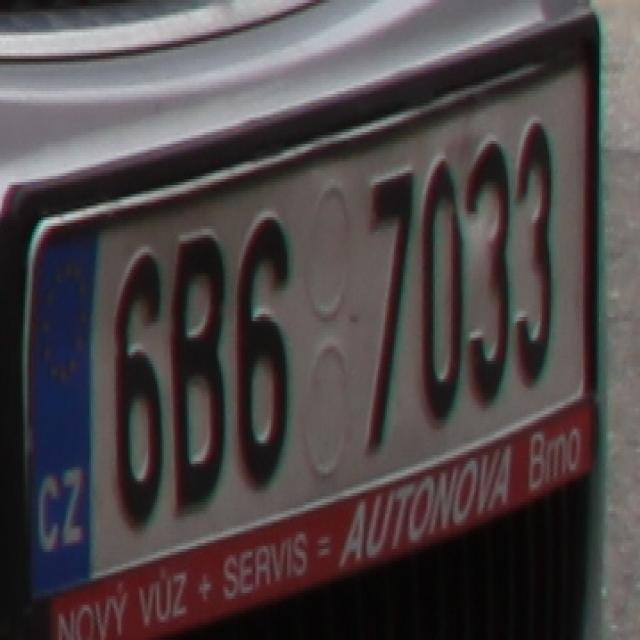0: (419, 150, 467, 420)
3: (463, 135, 510, 402), (513, 115, 551, 382)
6: (233, 214, 290, 478), (110, 244, 162, 526)
7: (360, 167, 407, 455)
B: (170, 223, 228, 508)
